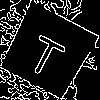T: (23, 26, 72, 80)
